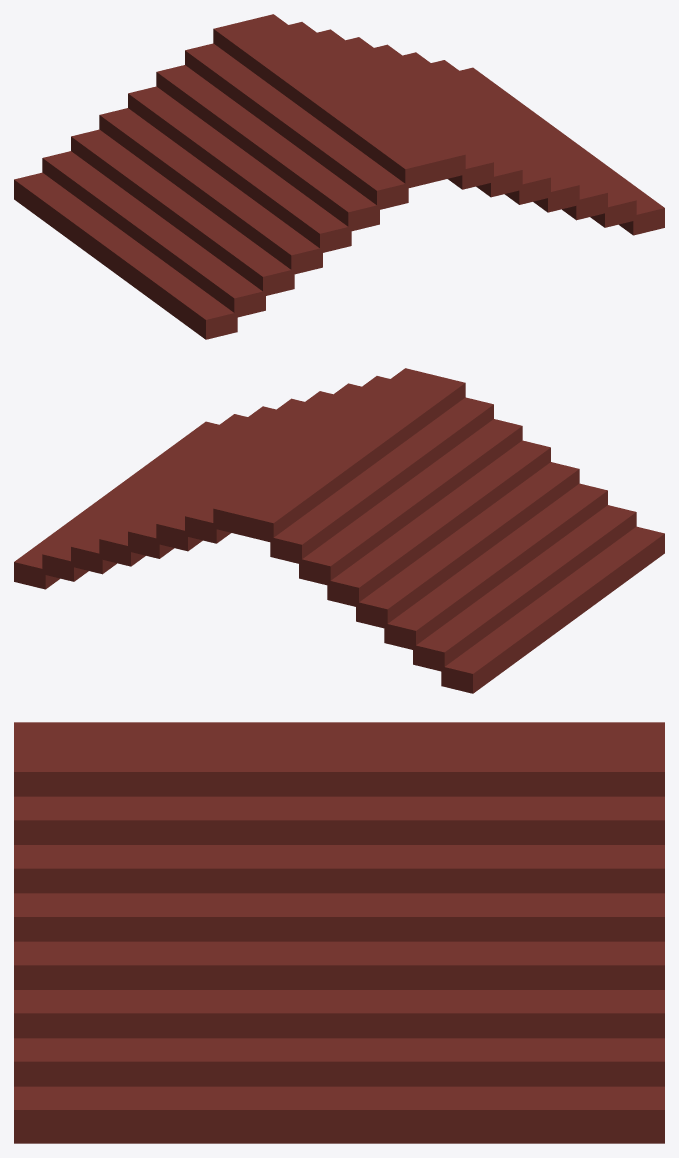
Rendered from roof_module.glb.
3 renders of one model, top to bottom at view 1: azimuth 30°, elevation 25°; view 2: azimuth 150°, elevation 25°; view 3: azimuth 270°, elevation 25°, orthographic. The views are drawn at different scales.
Visible parts, largest first — view 1: roof_module; view 2: roof_module; view 3: roof_module.
Part boxes in pixels (box(x1,y1,x2,y2)): roof_module: box(14, 14, 664, 339); roof_module: box(14, 368, 664, 693); roof_module: box(14, 722, 664, 1143).
Size of the model in its own units: 2.9 by 0.736 by 2.1.
